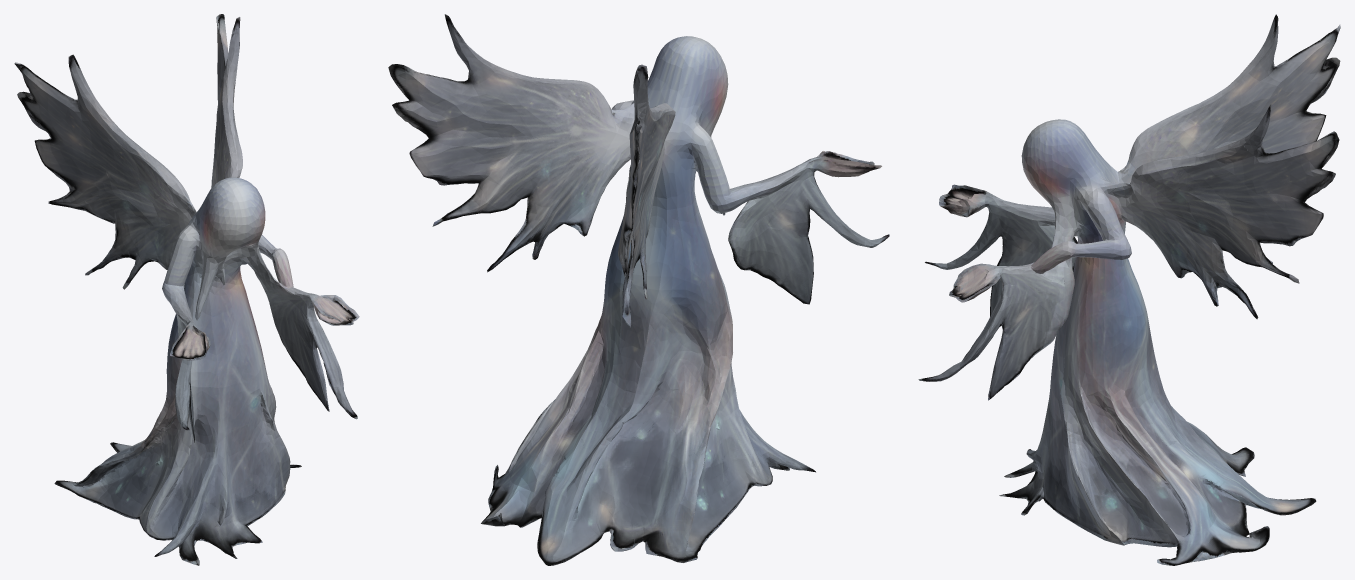
Rendered from Ethereal spirit.fbx.
3 views of the same model, side by side, from view 1: azimuth 30°, elevation 25°; view 2: azimuth 150°, elevation 25°; view 3: azimuth 270°, elevation 25° (orthographic). The views are drawn at different scales.
Visible parts, largest first — view 1: world; view 2: world; view 3: world.
Boxes of the visible parts, <box> form: world: <box>14,14,359,565</box>; world: <box>388,14,889,565</box>; world: <box>918,14,1340,565</box>.
Size of the model in its own units: 57.56 by 100 by 83.2.
1 material, 1 textured.
